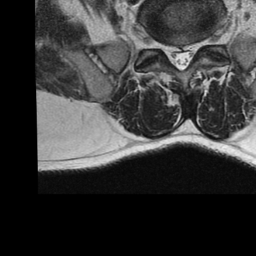CCS_normal: (177, 35, 186, 74)
LFS_stenosis: (197, 32, 207, 53)
LLS_normal: (186, 37, 197, 64)
RFS_stenosis: (156, 35, 167, 59)
RLS_normal: (167, 38, 176, 68)
